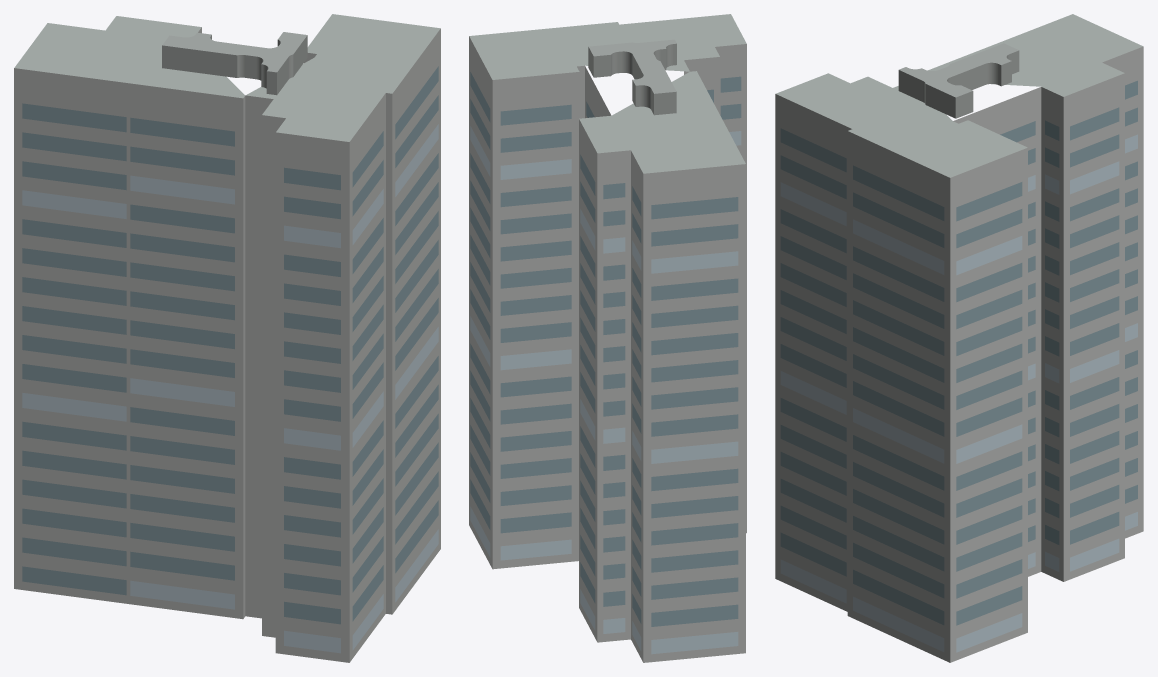
The model's file is fallback-gaepo-xi-presidence-407.glb.
The picture shows the model from 3 angles, left to right: view 1: azimuth 30°, elevation 25°; view 2: azimuth 150°, elevation 25°; view 3: azimuth 270°, elevation 25°; orthographic projection. The views are drawn at different scales.
Parts seen in each view (by area): view 1: fallback-gaepo-xi-presidence-407; view 2: fallback-gaepo-xi-presidence-407; view 3: fallback-gaepo-xi-presidence-407.
Boxes of the visible parts, x1=… form: fallback-gaepo-xi-presidence-407: x1=14, y1=14, x2=440, y2=662; fallback-gaepo-xi-presidence-407: x1=469, y1=14, x2=746, y2=662; fallback-gaepo-xi-presidence-407: x1=775, y1=14, x2=1143, y2=662.
Bounding box in the file's own units: 39.79 × 57.3 × 37.76.
